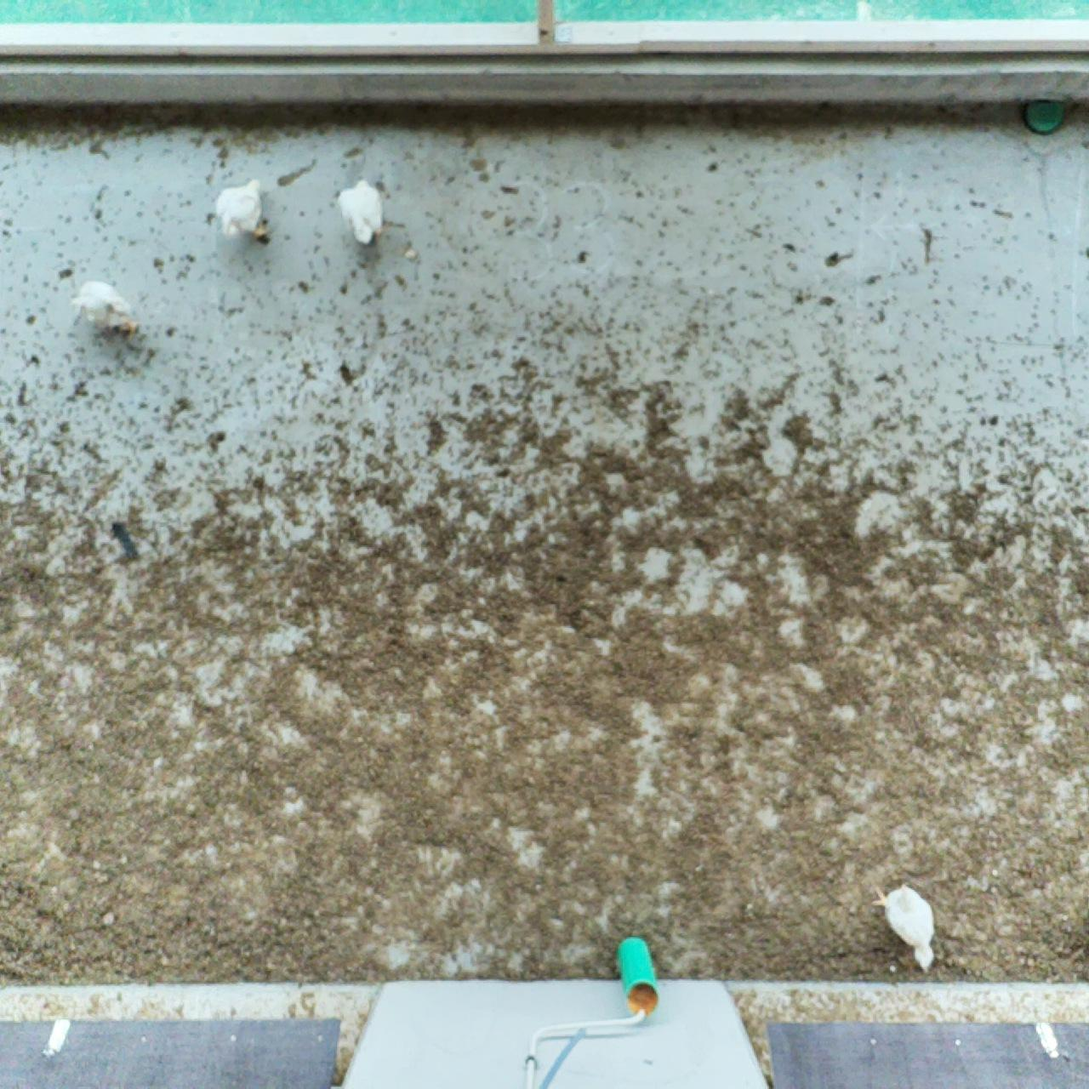chicken: (874, 878, 939, 975), (214, 174, 273, 249), (72, 277, 140, 335), (336, 177, 390, 248)
